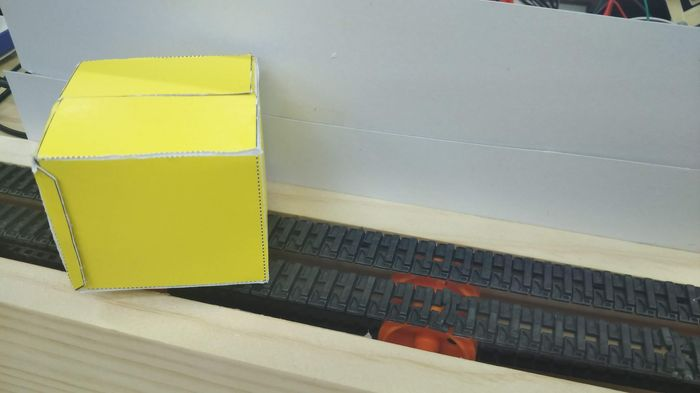box4: (27, 50, 272, 293)
